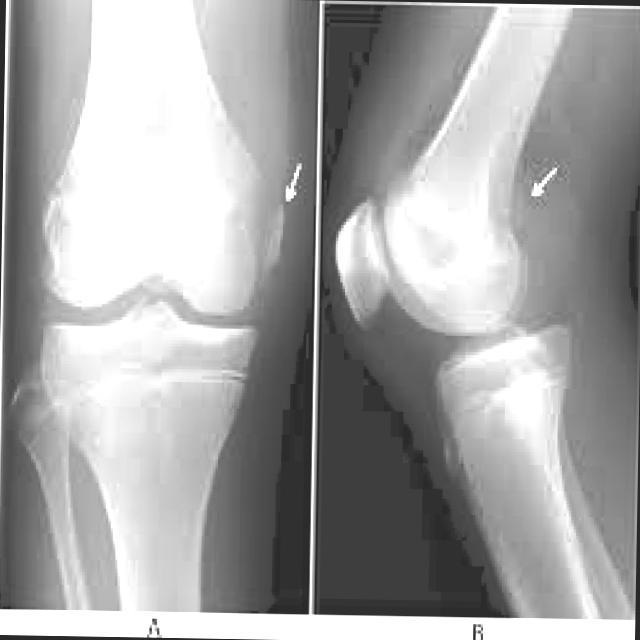Avlusion Fracture: (248, 187, 294, 275), (505, 188, 538, 237)
